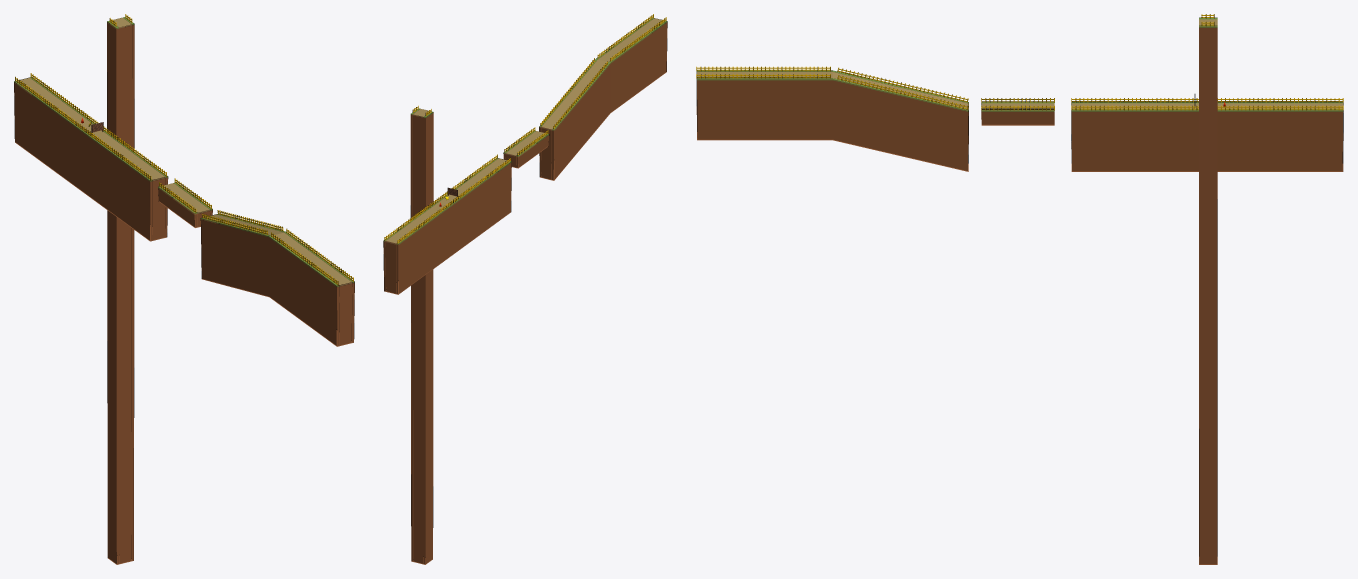
Rendered from chiness bull models.fbx.
3 views of the same model, side by side, from view 1: azimuth 30°, elevation 25°; view 2: azimuth 150°, elevation 25°; view 3: azimuth 270°, elevation 25° (orthographic). The views are drawn at different scales.
Parts seen in each view (by area): view 1: Cube.003, Cube, Cube.002, Cube.001; view 2: Cube.003, Cube.002, Cube, Cube.001; view 3: Cube.002, Cube, Cube.003, Cube.001.
Part boxes in pixels (x1,y1,x2,y2): Cube.003: (107, 14, 134, 564); Cube: (14, 73, 168, 241); Cube.002: (200, 210, 354, 346); Cube.001: (158, 178, 212, 227); Cube.003: (410, 105, 433, 564); Cube.002: (539, 14, 667, 180); Cube: (383, 154, 511, 294); Cube.001: (503, 127, 549, 168); Cube.002: (696, 66, 968, 171); Cube: (1071, 98, 1343, 171); Cube.003: (1199, 14, 1217, 564); Cube.001: (981, 98, 1054, 125).
Bounding box in the file's own units: 157 × 1677 × 1812.
